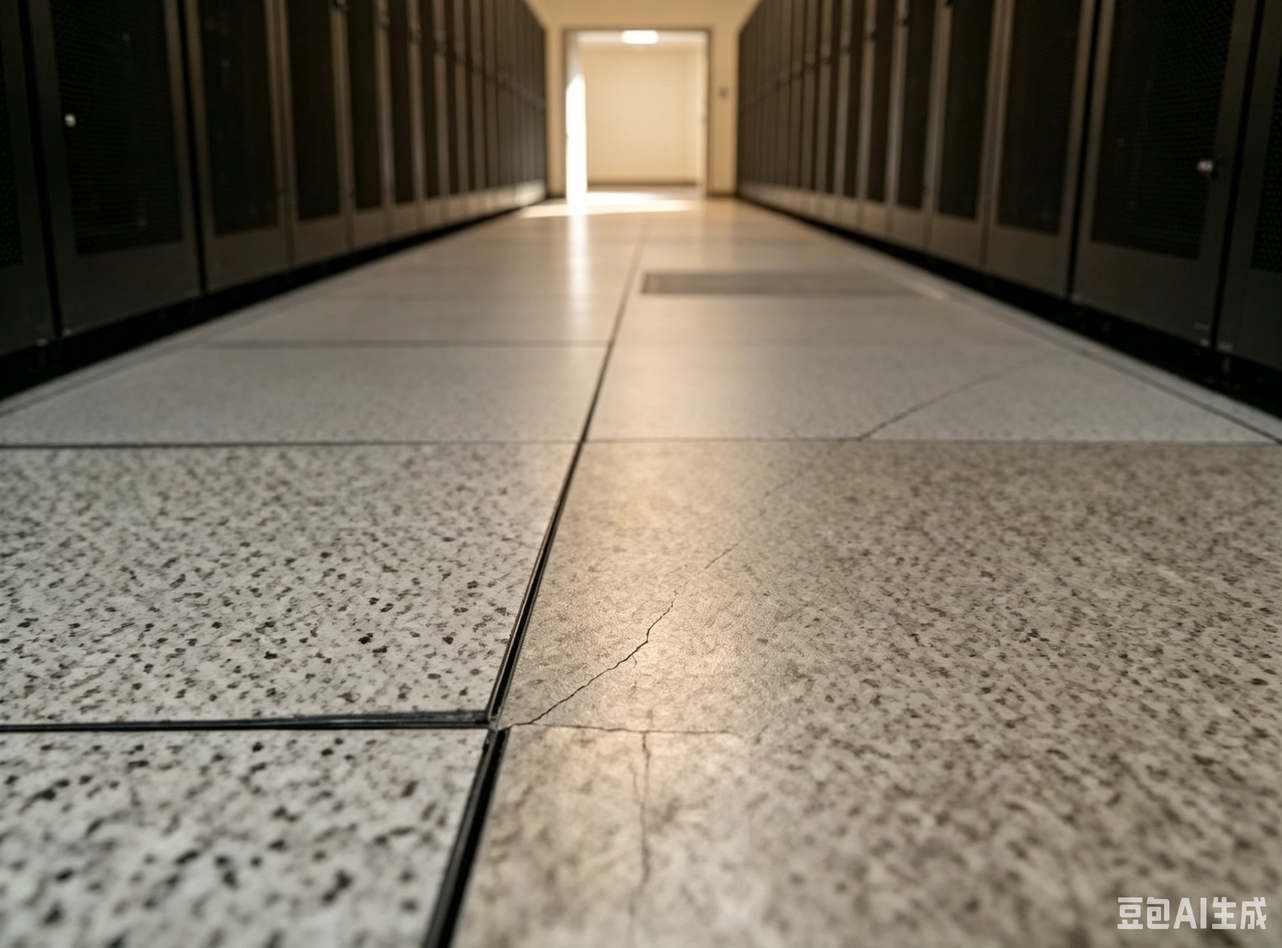floor_defect: (7, 696, 577, 759), (627, 589, 691, 654), (557, 659, 639, 696)
